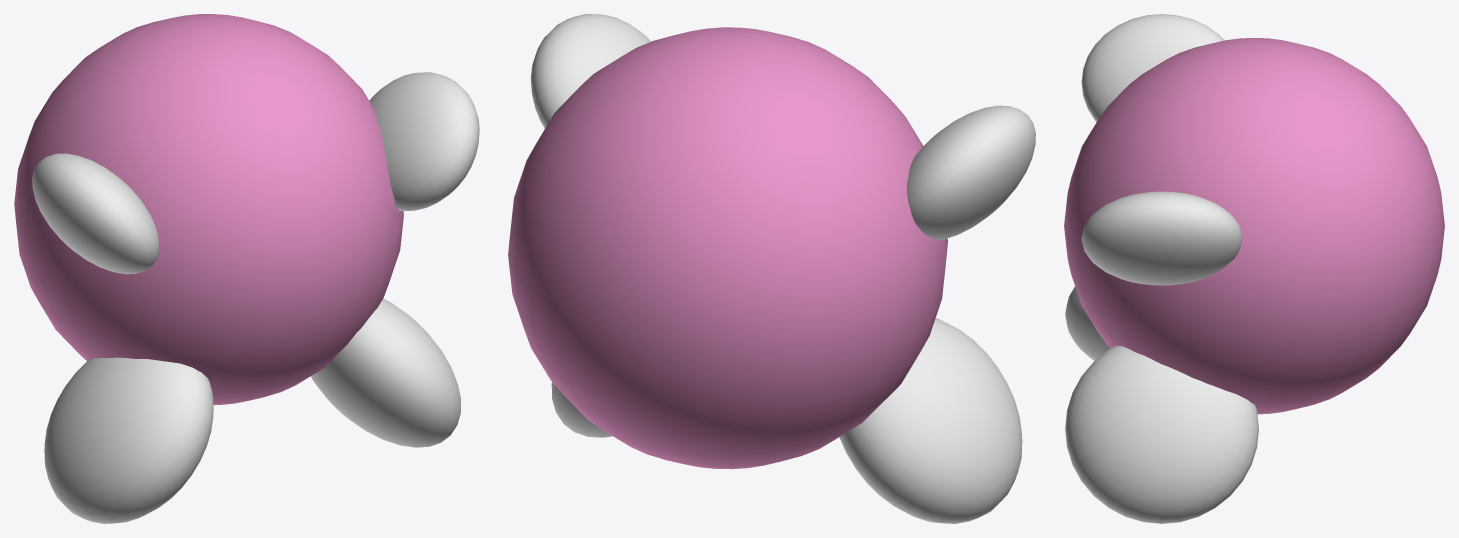
The model's file is 3d character kirby.glb.
The picture shows the model from 3 angles, left to right: view 1: azimuth 30°, elevation 25°; view 2: azimuth 150°, elevation 25°; view 3: azimuth 270°, elevation 25°; orthographic projection. The views are drawn at different scales.
Parts seen in each view (by area): view 1: Sphere, Sphere.001, Sphere.003, Sphere.002, Sphere.004; view 2: Sphere, Sphere.001, Sphere.004, Sphere.002, Sphere.003; view 3: Sphere, Sphere.003, Sphere.002, Sphere.004, Sphere.001.
Boxes of the visible parts, bbox=[...] form: Sphere: bbox=[14, 14, 403, 405]; Sphere.001: bbox=[44, 357, 213, 523]; Sphere.003: bbox=[311, 298, 460, 447]; Sphere.002: bbox=[369, 72, 479, 210]; Sphere.004: bbox=[32, 153, 159, 274]; Sphere: bbox=[508, 27, 947, 469]; Sphere.001: bbox=[839, 318, 1022, 523]; Sphere.004: bbox=[907, 105, 1035, 240]; Sphere.002: bbox=[530, 14, 651, 128]; Sphere.003: bbox=[551, 382, 612, 437]; Sphere: bbox=[1064, 37, 1444, 414]; Sphere.003: bbox=[1065, 345, 1258, 523]; Sphere.002: bbox=[1081, 191, 1242, 285]; Sphere.004: bbox=[1081, 14, 1224, 121]; Sphere.001: bbox=[1065, 286, 1110, 360].
Bounding box in the file's own units: 4.79 × 4.48 × 3.93.
